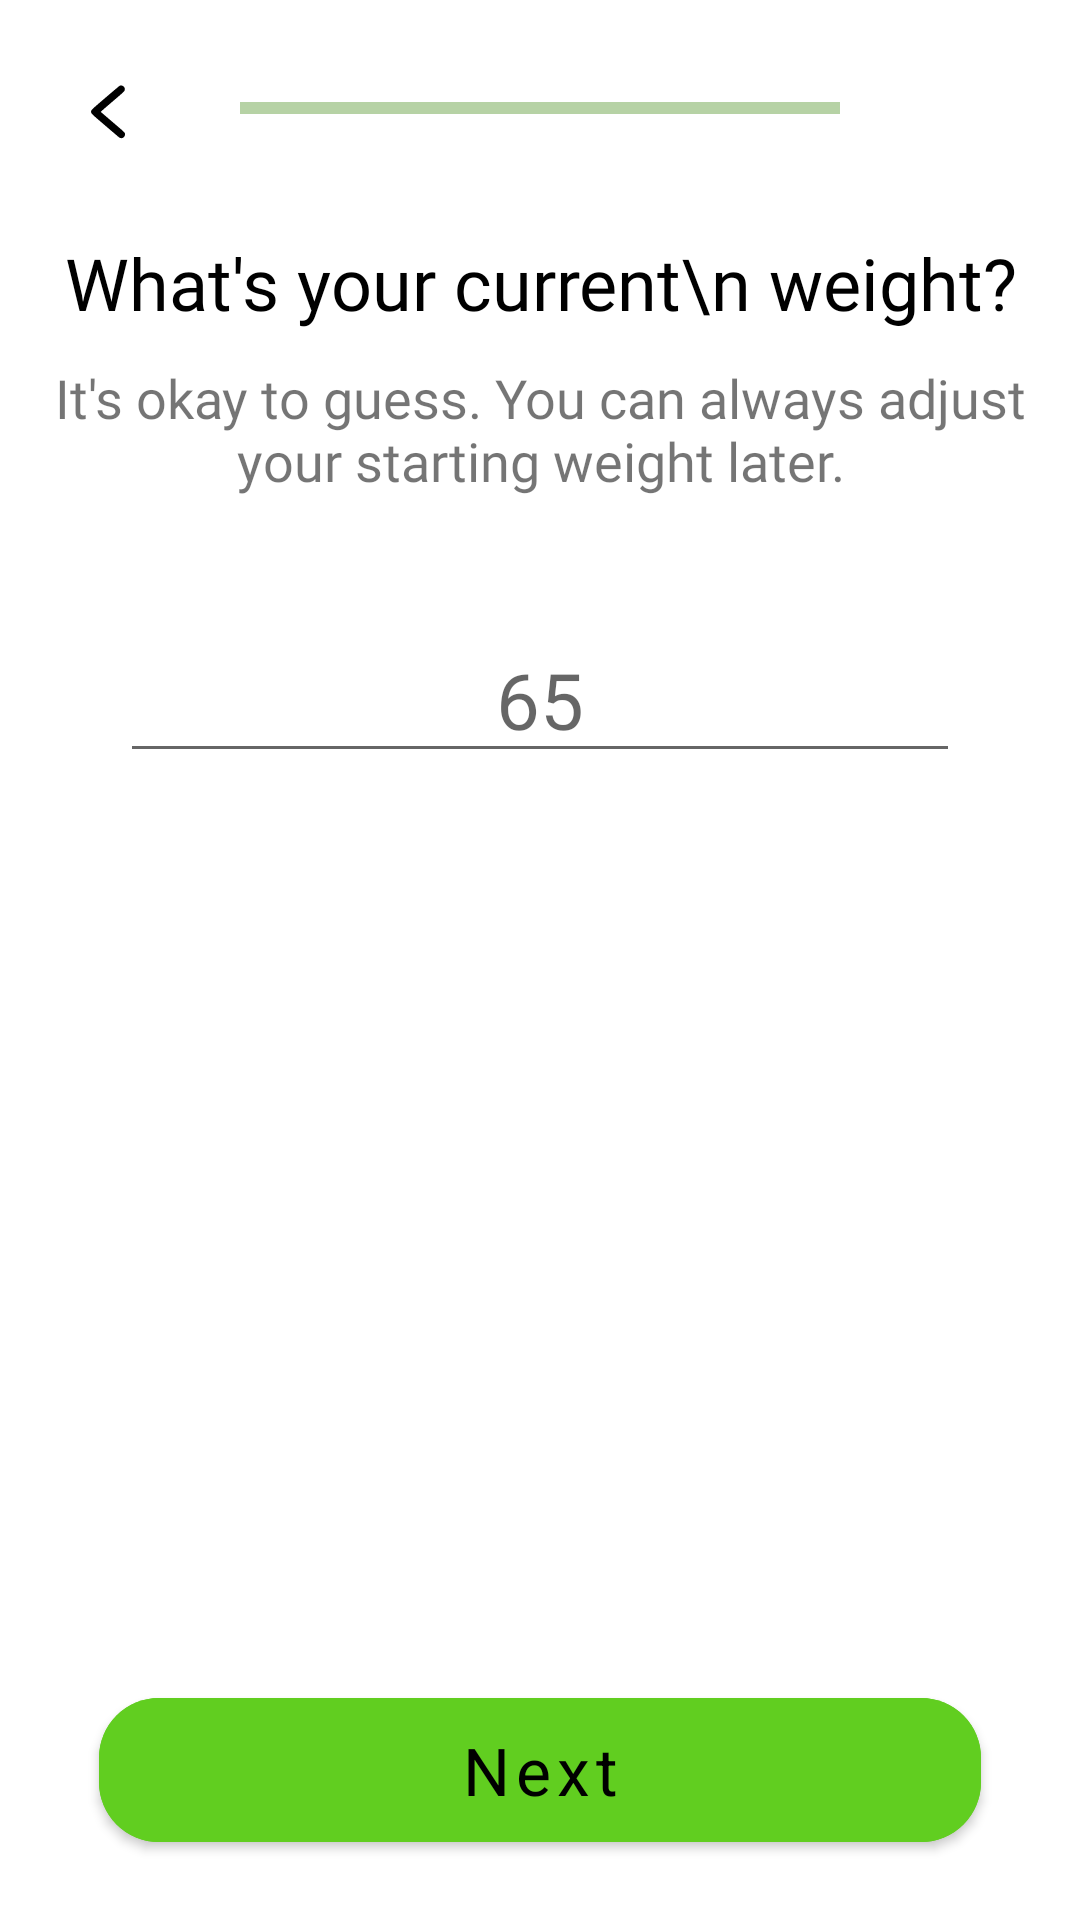

Point at icon controls on the screen. Image size 1080 x 1920, points as (x=x, y=y).
arrow back: (x=108, y=112)
